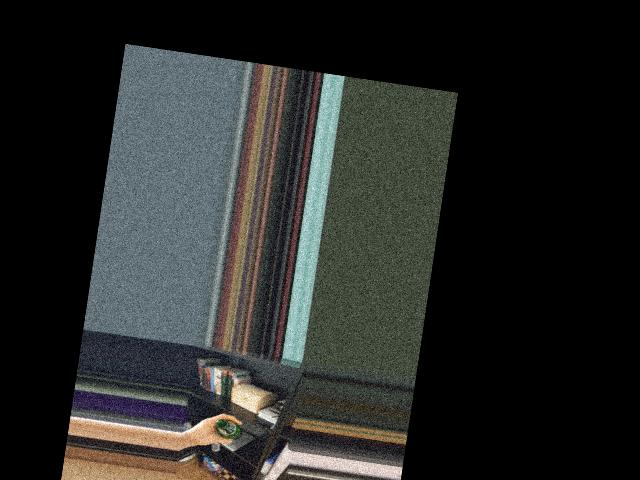beer: (213, 418, 243, 442)
